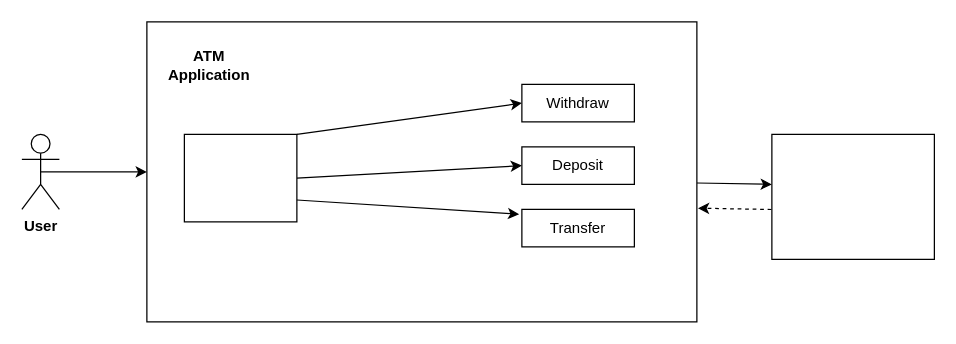
Some shapes in this 956 by 344 pixel diagram are drawn without their labels. The shapes that lost their labels are listed below. From the top down, each one's centre as x and y in pixels, then its label:
pixel 240 177: Login Page
pixel 852 196: Server
